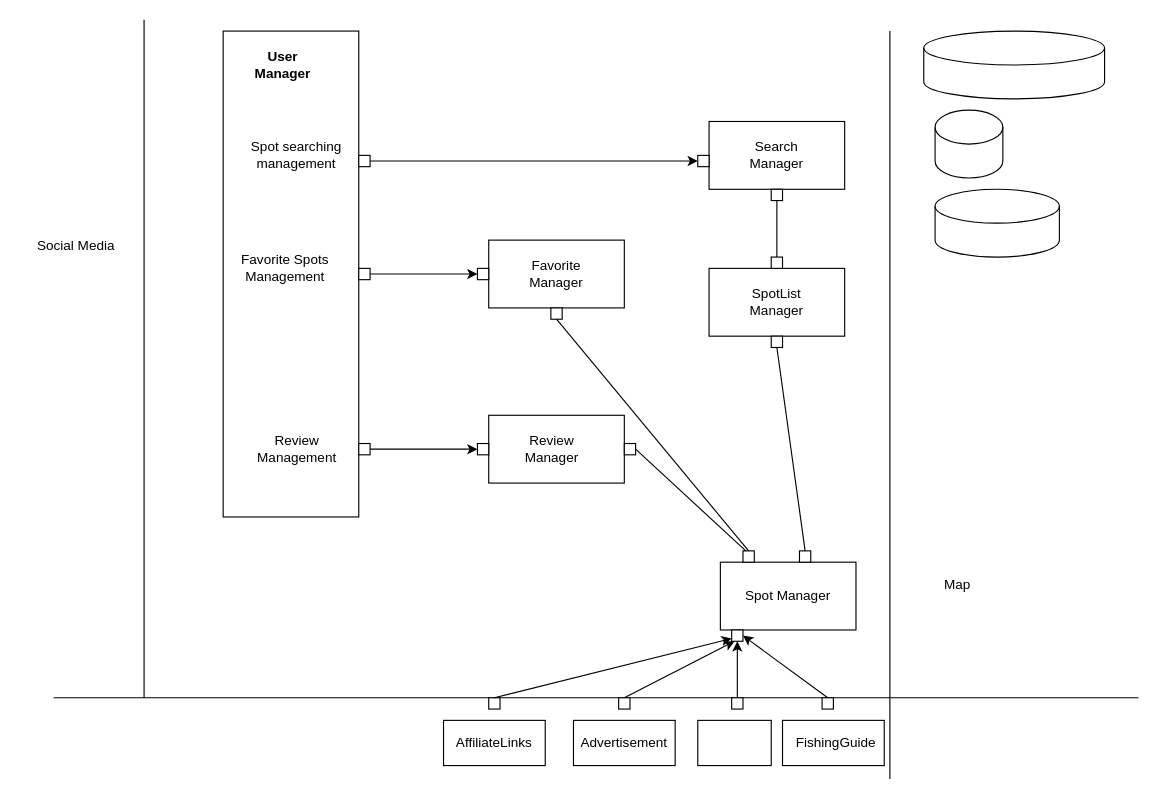
Some shapes in this 1159 by 800 pixel diagram are drawn without their labels. The box of each missing label's shape, as (x1, y1, x2, y2) in pixels:
Fish: (934, 109, 1003, 178)
Fishing Method: (923, 30, 1105, 99)
Place: (934, 188, 1059, 257)
Skipperi: (697, 719, 771, 766)
